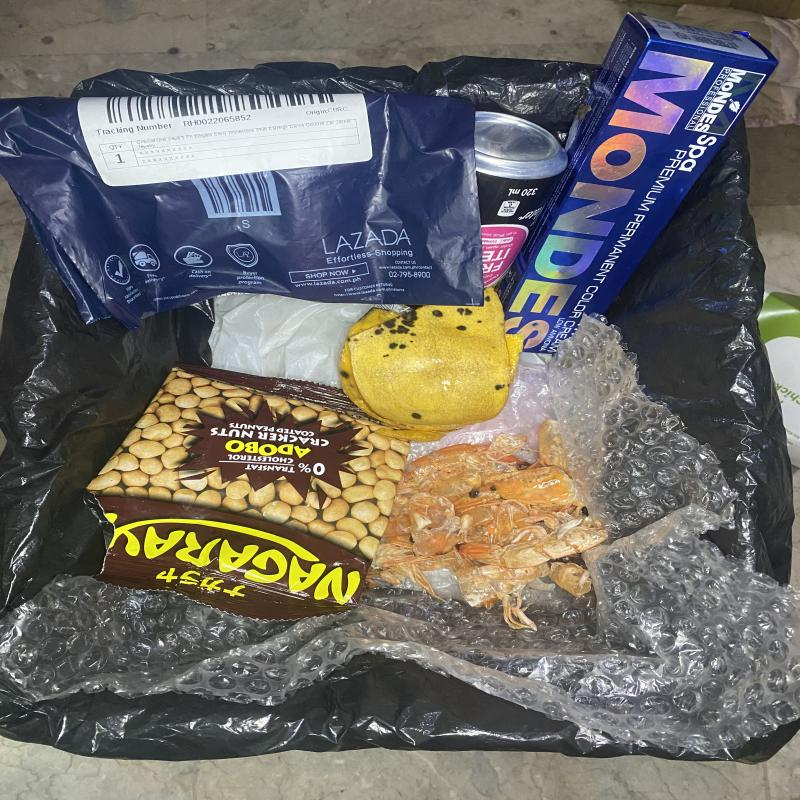aluminum: (474, 111, 569, 290)
cardboard: (492, 13, 778, 357)
food wrapper: (86, 363, 411, 620)
fruit peels: (339, 287, 524, 443)
left-over food: (372, 418, 609, 632)
plastic bag: (0, 91, 567, 329)
